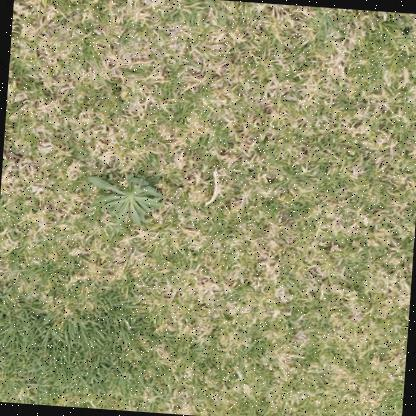Weeds: (85, 173, 164, 229)
